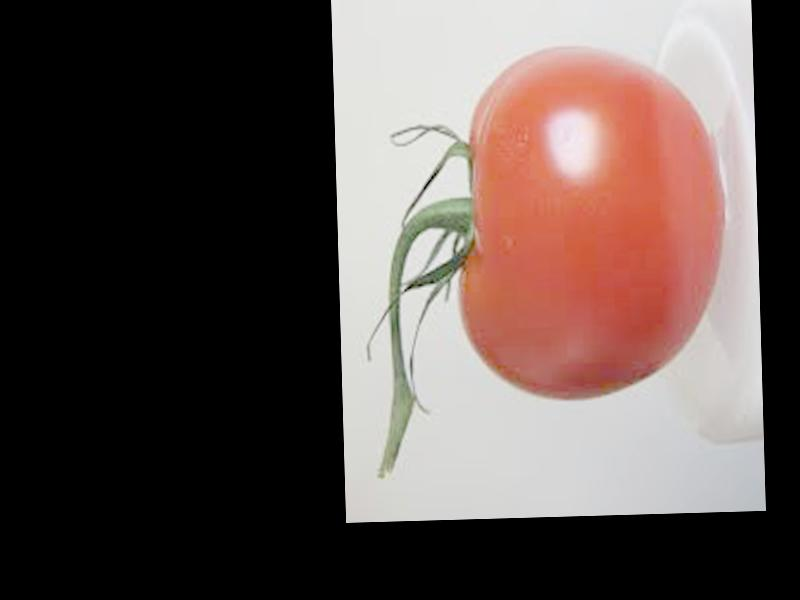Tomato: (452, 42, 728, 404)
